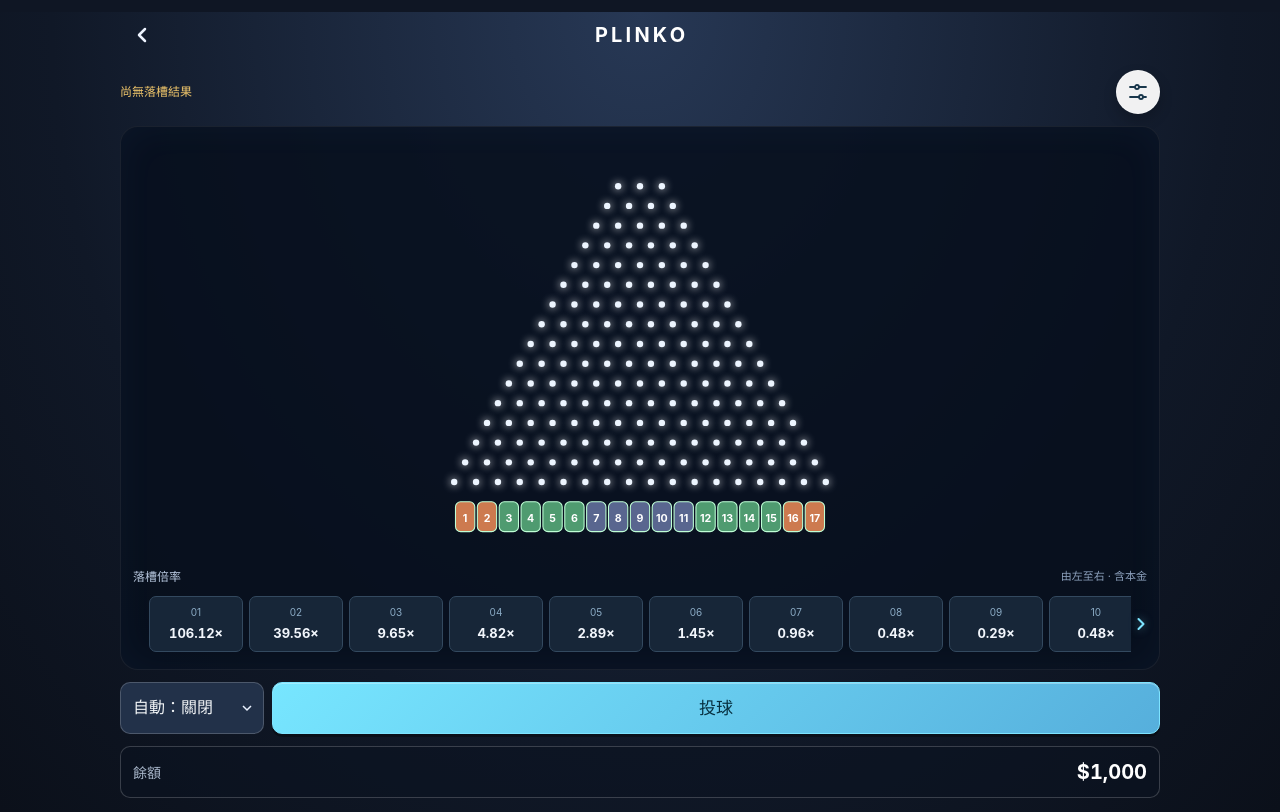
Test: PlinkoView › keeps an uncertain debit displayed until its original request is recovered
Click the button "投球": (716, 708) left=272, top=682, right=1160, bottom=734
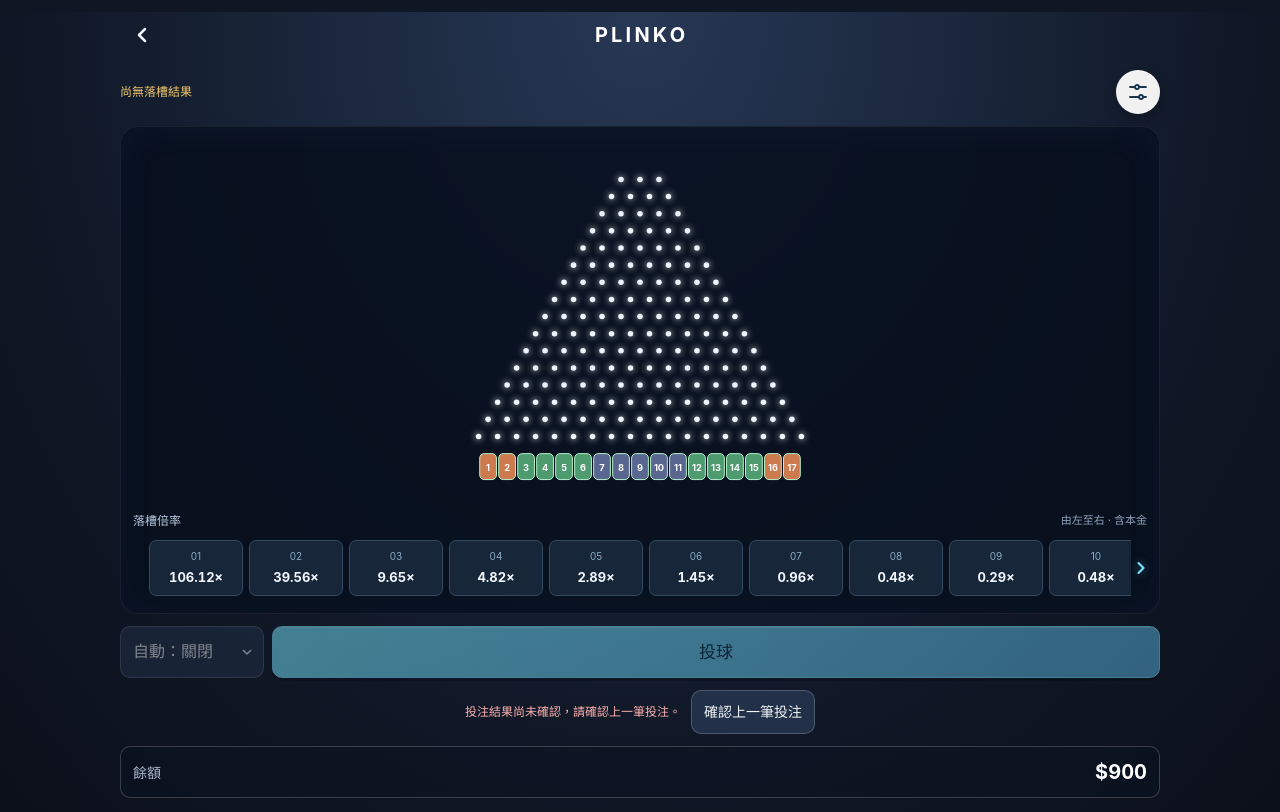
Now the text "$900" is shown, box left=1095, top=757, right=1147, bottom=787
Click the button "確認上一筆投注": (753, 712) left=691, top=690, right=815, bottom=734
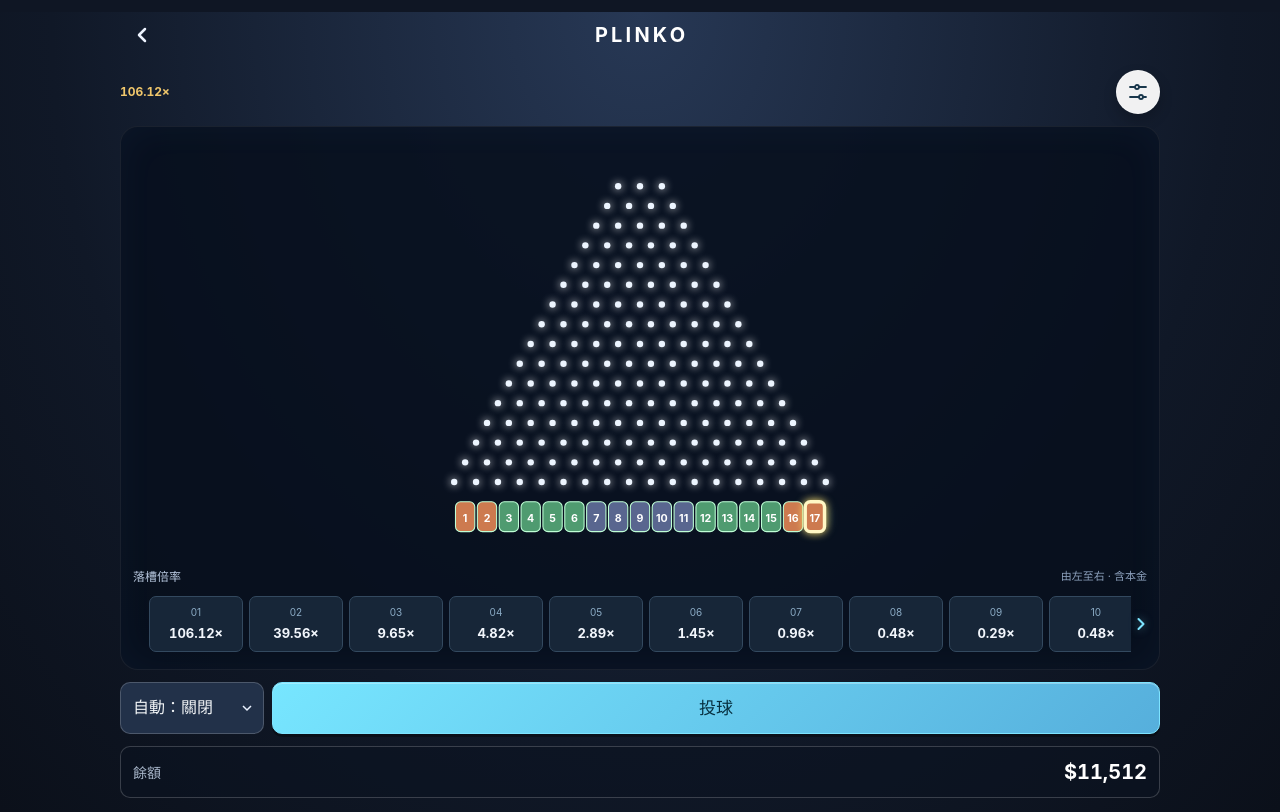
Now the text "$11,512" is shown, box left=1064, top=757, right=1147, bottom=787
